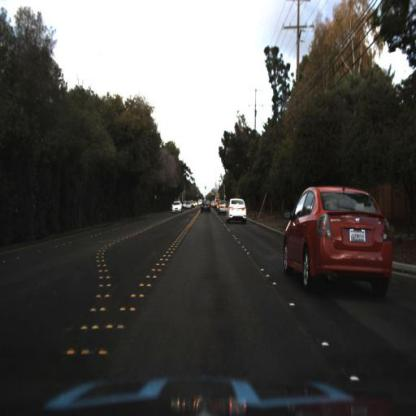car: (280, 184, 396, 292), (226, 197, 251, 227), (218, 199, 233, 219), (200, 200, 213, 219), (171, 199, 185, 216)
